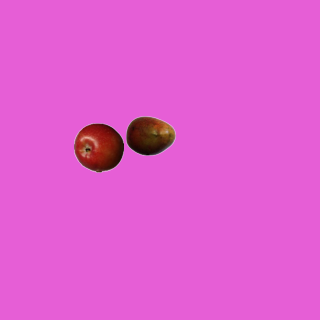Apple Braeburn: (73, 122, 123, 172)
Mango Red: (125, 110, 175, 160)
